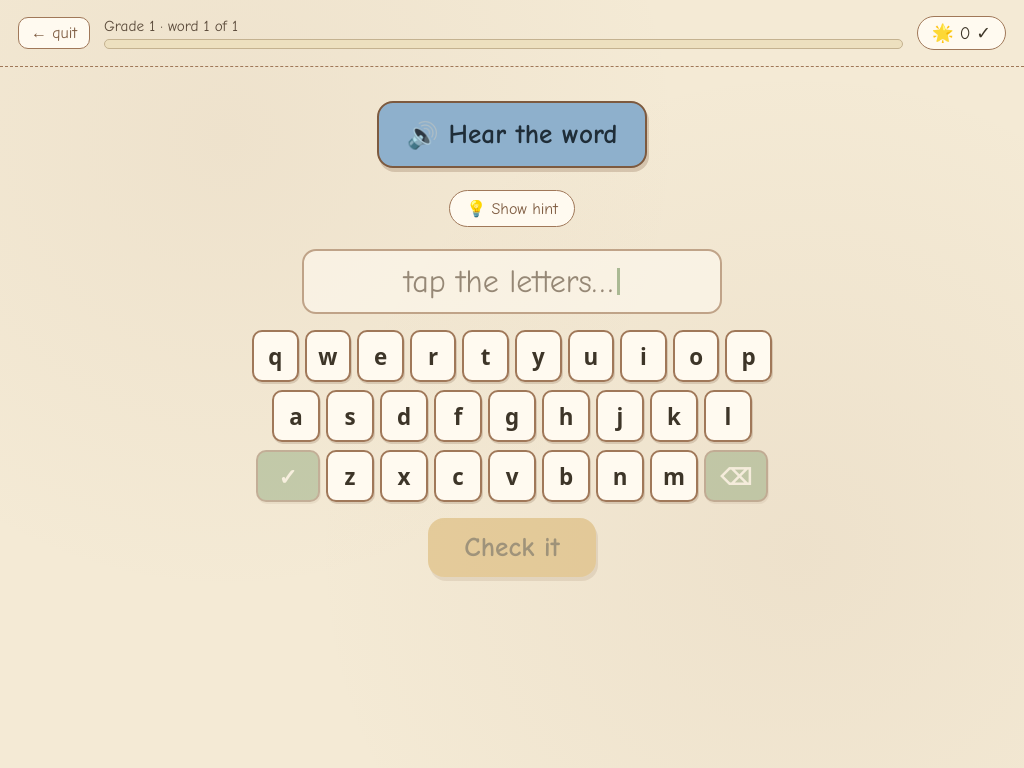
Test: DragonSpelling hints › offers a hint in medium mode
The image size is (1024, 768).
Click the button "💡 Show hint" at (512, 208), box [449,190,575,227]
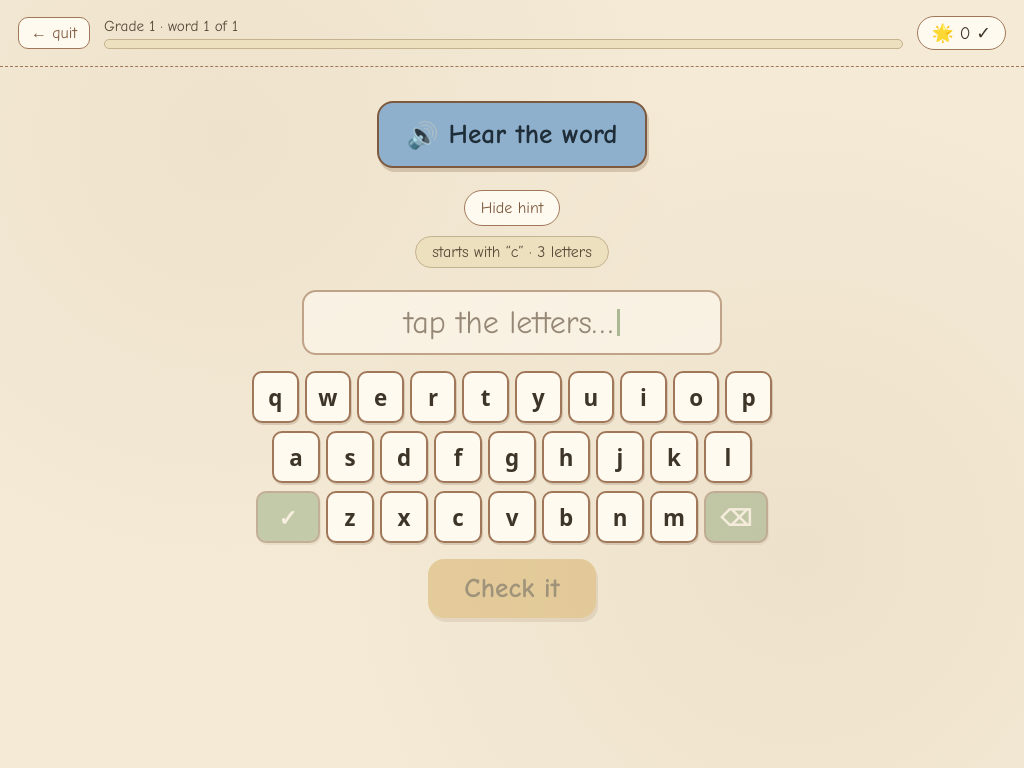
Expected: the text "starts with “c” · 3 letters" is shown, [415,236,609,268]
